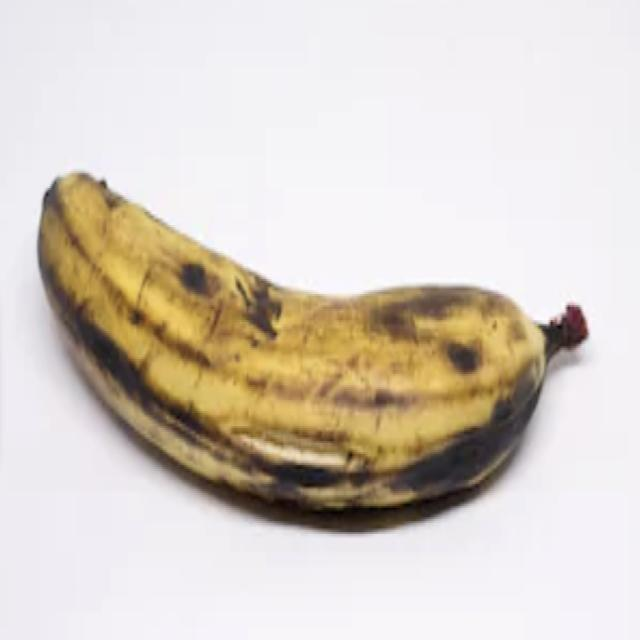rotten-banana: (36, 167, 589, 514)
